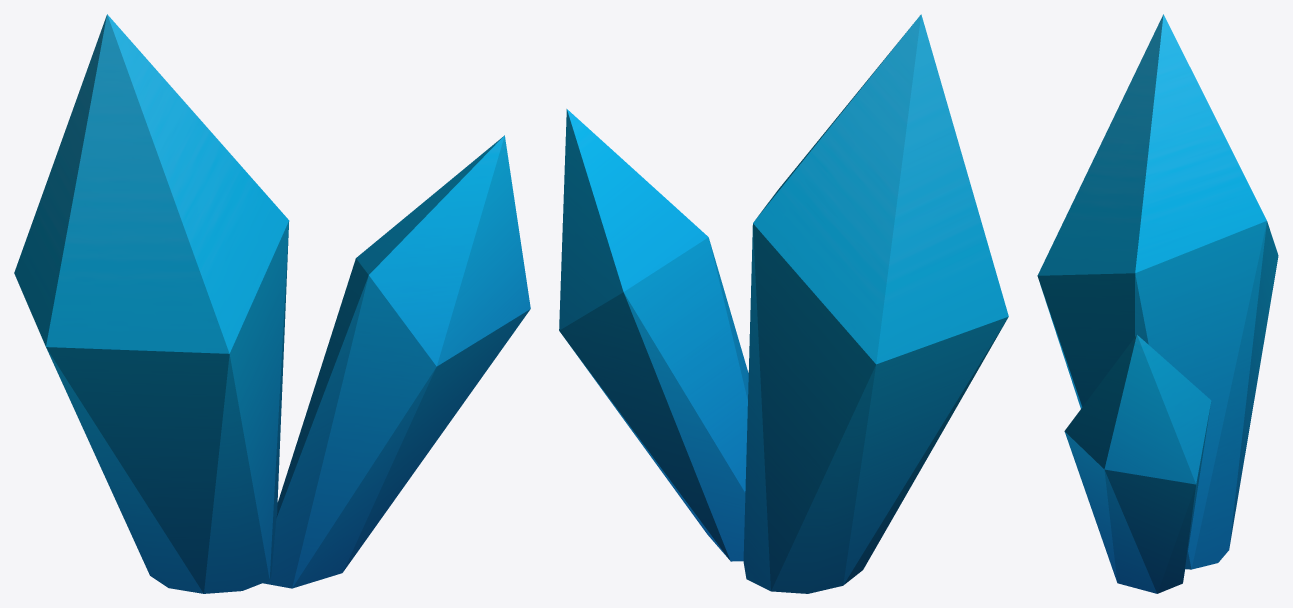
File: Crystal_blue_04.fbx
3 views of the same model, side by side, from view 1: azimuth 30°, elevation 25°; view 2: azimuth 150°, elevation 25°; view 3: azimuth 270°, elevation 25° (orthographic). The views are drawn at different scales.
Parts seen in each view (by area): view 1: Crystal_blue_04; view 2: Crystal_blue_04; view 3: Crystal_blue_04.
Part boxes in pixels (<box>): Crystal_blue_04: <box>14,14,530,593</box>; Crystal_blue_04: <box>559,14,1008,593</box>; Crystal_blue_04: <box>1037,14,1278,593</box>.
Size of the model in its own units: 75.54 by 93.53 by 41.27.
